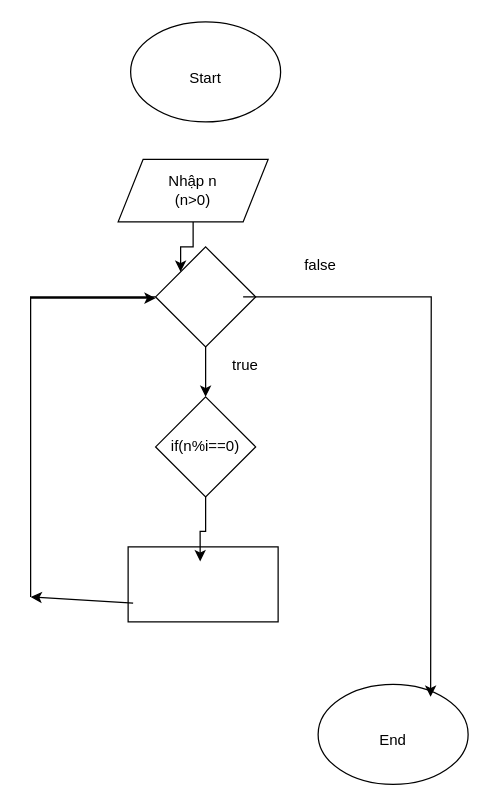
The diagram is 490 pixels wide and 806 high, and some of its shapes have lost their labels. Each missing label, with the centre of its shape:
"for( i = n; i >= 1; i--)" belongs at (x=205, y=296).
"In :i là ước của n" belongs at (x=202, y=584).
